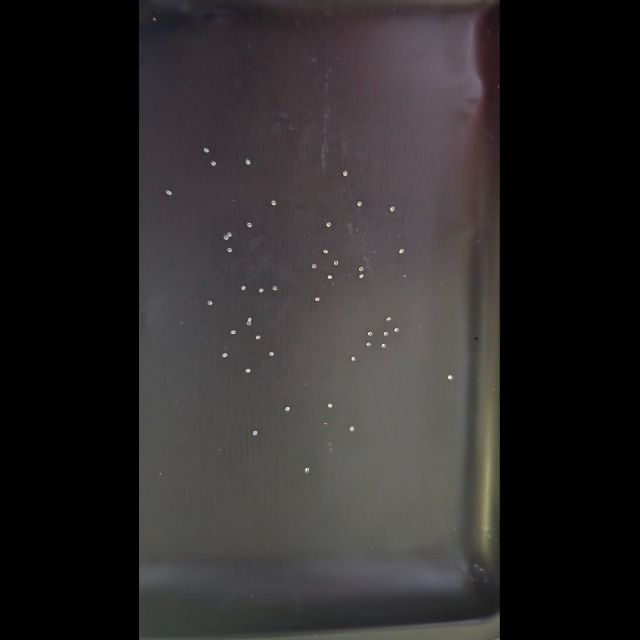diamond: (61, 59, 111, 109)
